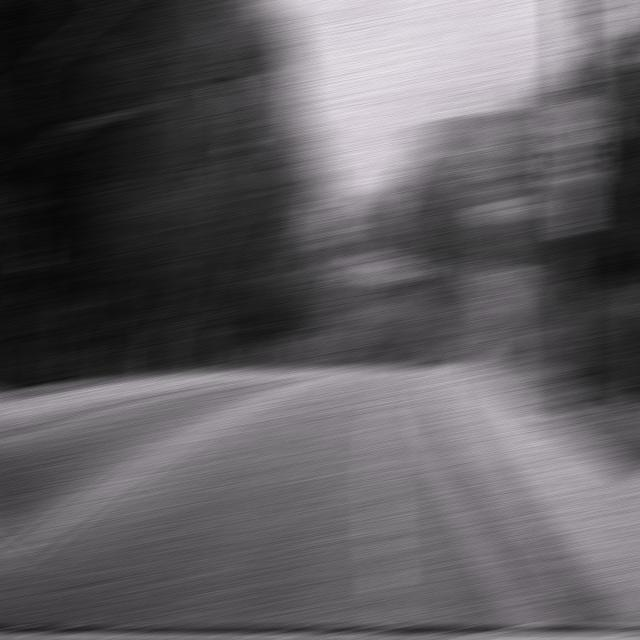speedLimit35: (546, 99, 600, 185)
